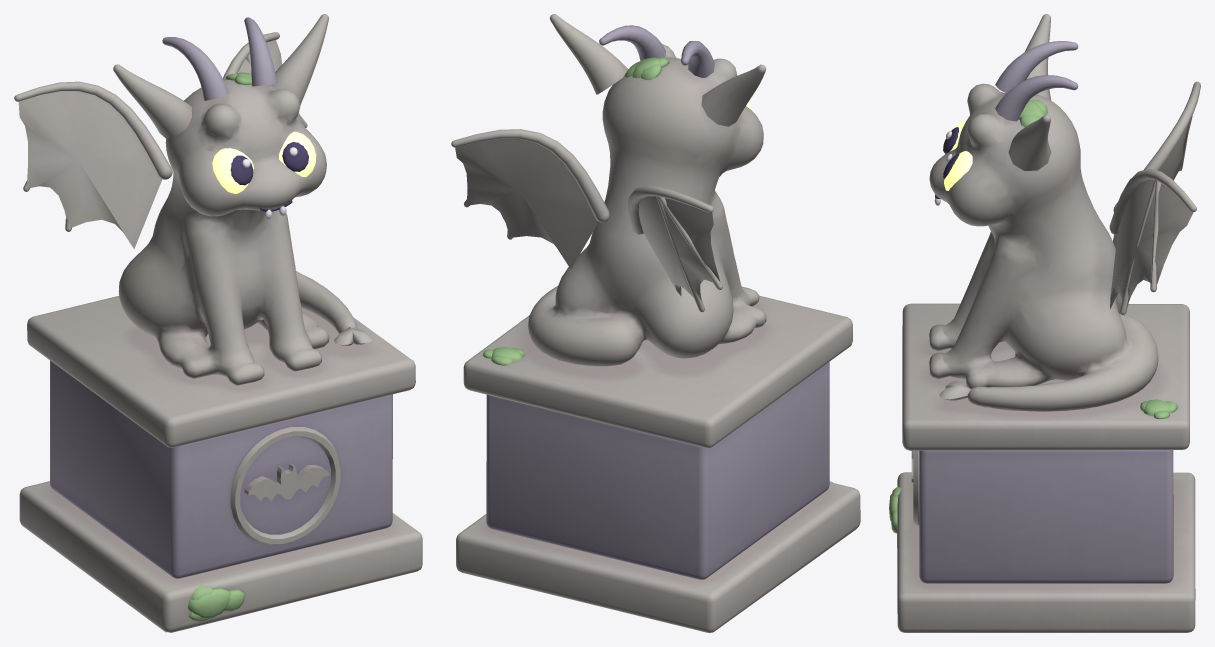
Rendered from gargola.glb.
The picture shows the model from 3 angles, left to right: view 1: azimuth 30°, elevation 25°; view 2: azimuth 150°, elevation 25°; view 3: azimuth 270°, elevation 25°; orthographic projection.
Parts seen in each view (by area): view 1: gargoyle_body; view 2: gargoyle_body; view 3: gargoyle_body.
Boxes of the visible parts, bbox=[...] form: gargoyle_body: bbox=[14, 14, 422, 632]; gargoyle_body: bbox=[451, 14, 860, 632]; gargoyle_body: bbox=[889, 14, 1200, 632].
Size of the model in its own units: 0.5626 by 1.02 by 0.5639.
Materials: 2 (1 with a texture image).
